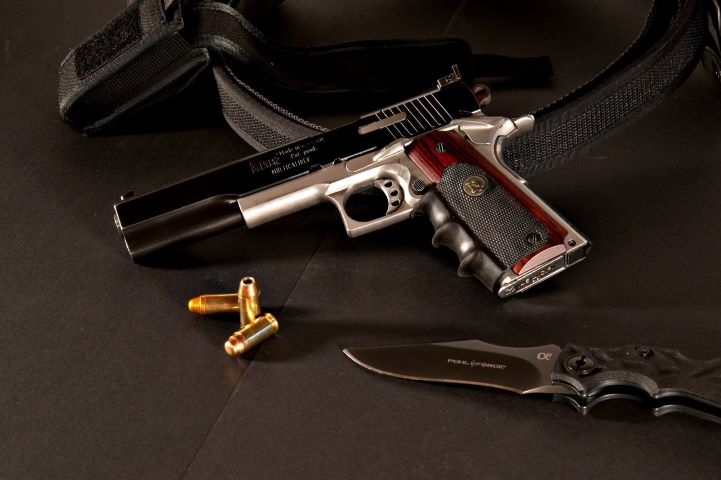pistol: (107, 66, 596, 325)
